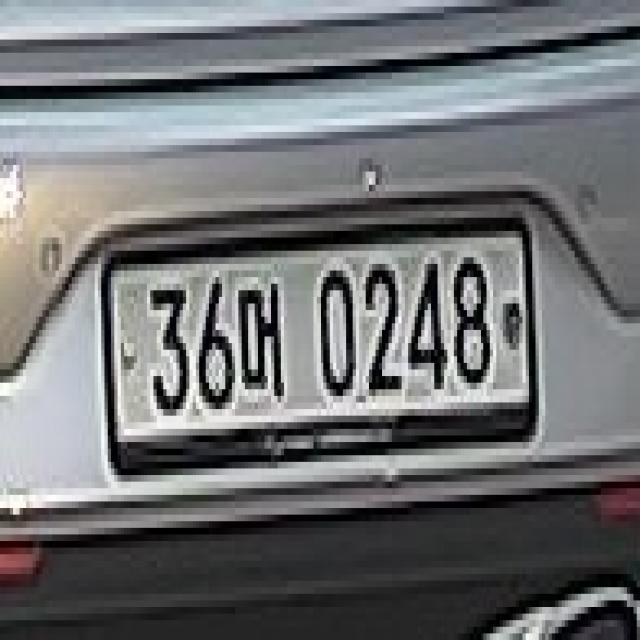0: (317, 264, 356, 402)
2: (362, 251, 402, 396)
3: (144, 284, 192, 416)
4: (405, 258, 447, 390)
6: (196, 277, 238, 409)
8: (447, 250, 493, 382)
license_plate: (101, 224, 536, 462)
meo: (235, 277, 284, 403)
